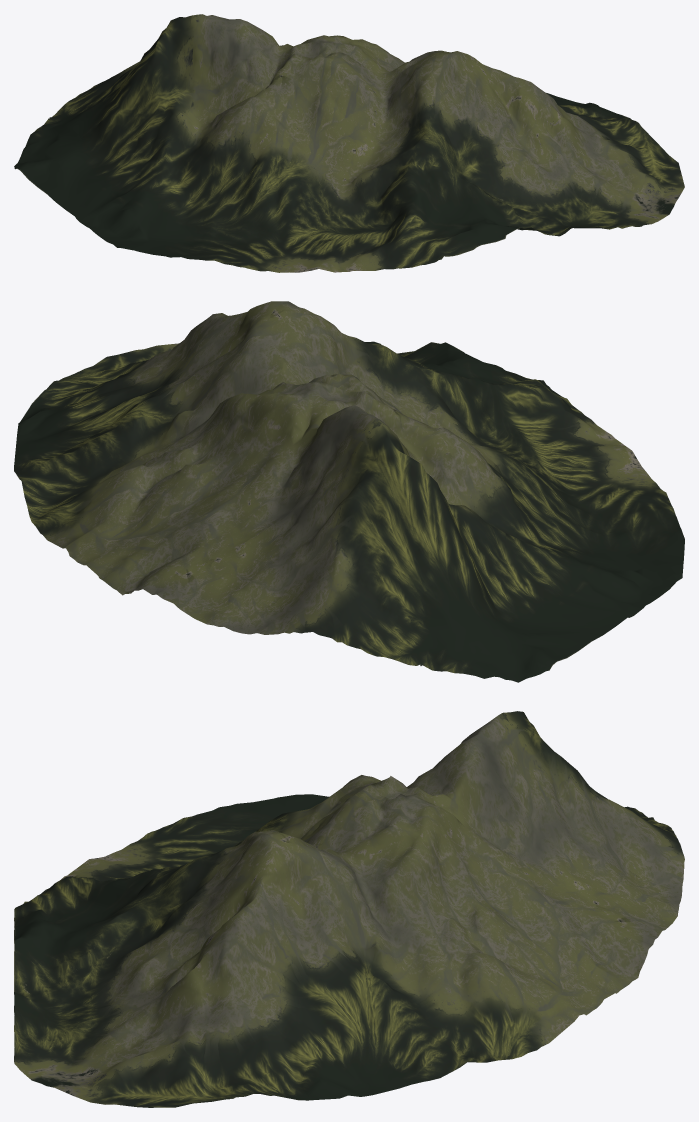
File: SM_Mountain_C.fbx
3 views of the same model, one above another, from view 1: azimuth 30°, elevation 25°; view 2: azimuth 150°, elevation 25°; view 3: azimuth 270°, elevation 25° (orthographic). The views are drawn at different scales.
Visible parts, largest first — view 1: SM_Mountain_C_LOD0; view 2: SM_Mountain_C_LOD0; view 3: SM_Mountain_C_LOD0.
Boxes of the visible parts, <box> form: SM_Mountain_C_LOD0: <box>14,14,684,272</box>; SM_Mountain_C_LOD0: <box>14,301,684,682</box>; SM_Mountain_C_LOD0: <box>14,711,684,1107</box>.
Size of the model in its own units: 19992 by 17710 by 5364.
Materials: 1 (1 with a texture image).
